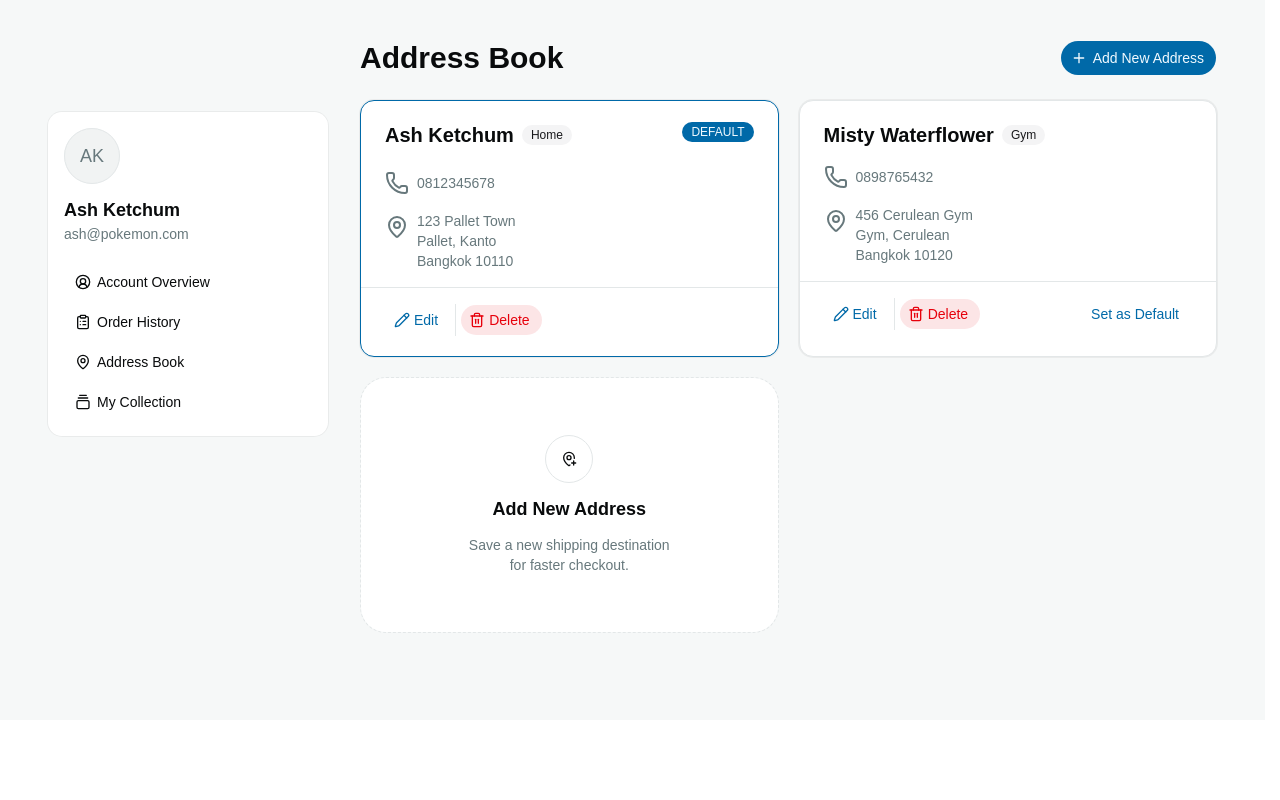
Test: AddressBookPage › opens delete confirmation dialog when Delete is clicked on an address card
This screenshot has width=1280, height=800.
Check: the text "Misty Waterflower" is shown, box 824,124 -> 994,146
Click the button "Delete" below "Bangkok 10110". click: point(501, 320)
box: 460,304 -> 543,336
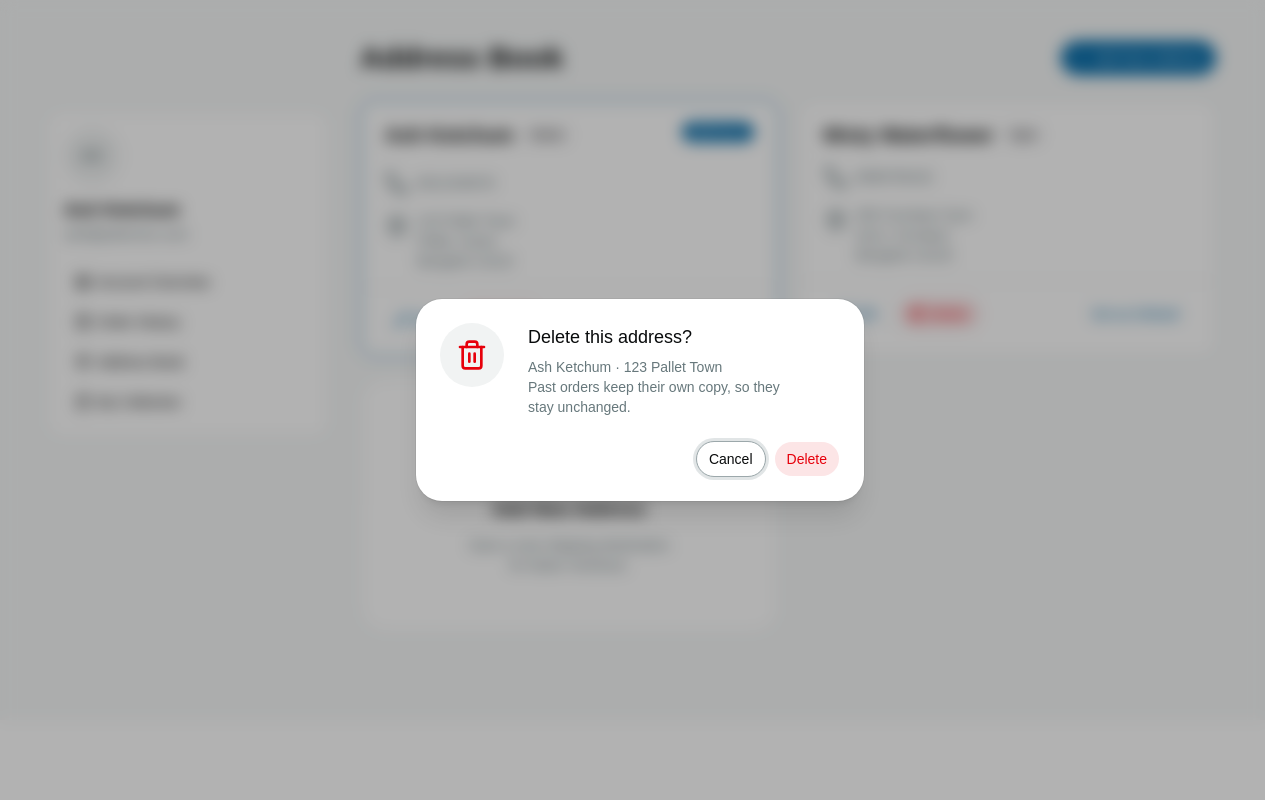
Check: the dialog is shown, box 416,299 -> 864,501
Check: the heading "Delete this address?" is shown, box 528,323 -> 692,351
Check: the text "Past orders keep their own copy" is shown, box 528,379 -> 780,415
